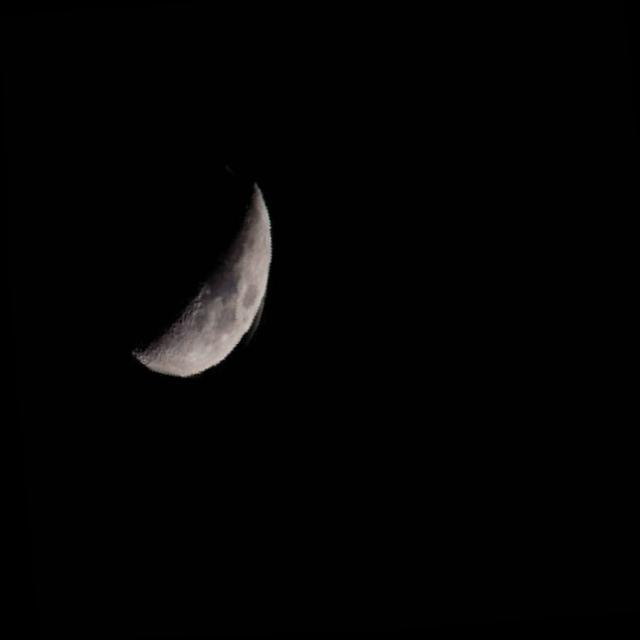moon: (82, 140, 294, 391)
